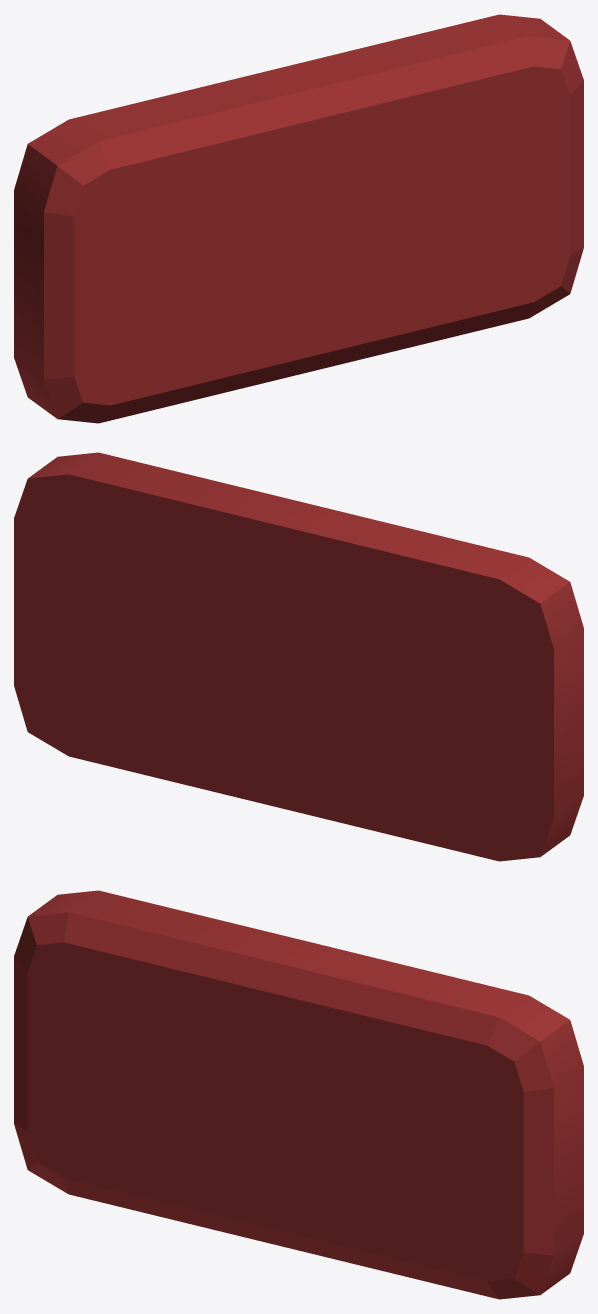
The model's file is SM_pillow_05.fbx.
3 renders of one model, top to bottom at view 1: azimuth 30°, elevation 25°; view 2: azimuth 150°, elevation 25°; view 3: azimuth 330°, elevation 25°, orthographic.
Visible parts, largest first — view 1: Box004; view 2: Box004; view 3: Box004.
Part boxes in pixels (left/top/right/bottom): Box004: left=14, top=14, right=583, bottom=423; Box004: left=14, top=452, right=583, bottom=861; Box004: left=14, top=890, right=583, bottom=1299.
Bounding box in the file's own units: 38.27 × 4.68 × 19.1.
